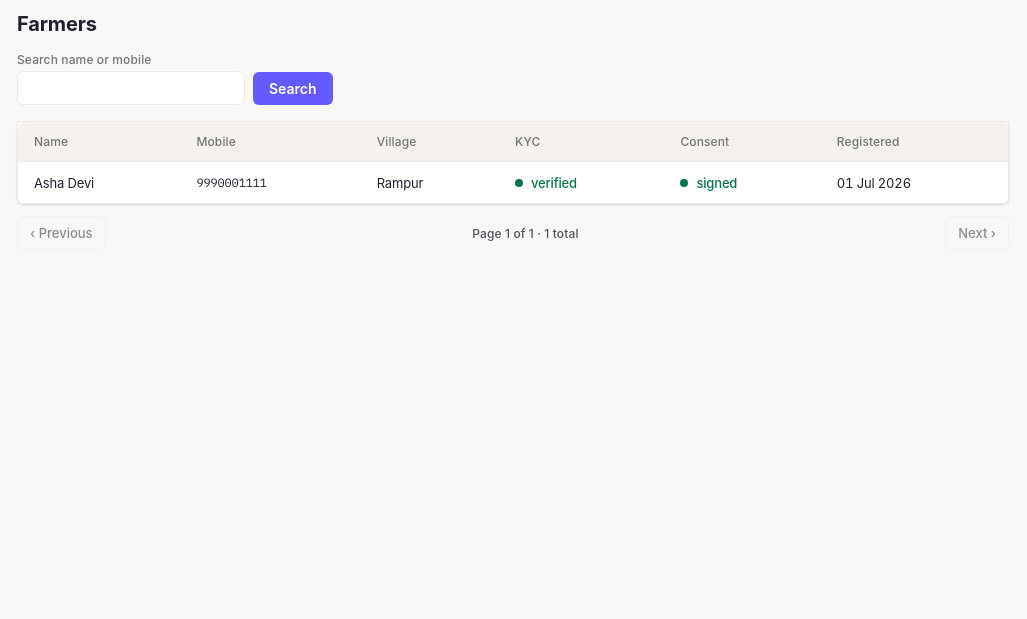
Test case: Farmers page › opens a detail panel showing masked PII only
Click the text "Asha Devi": (64, 182) [18,162,180,204]
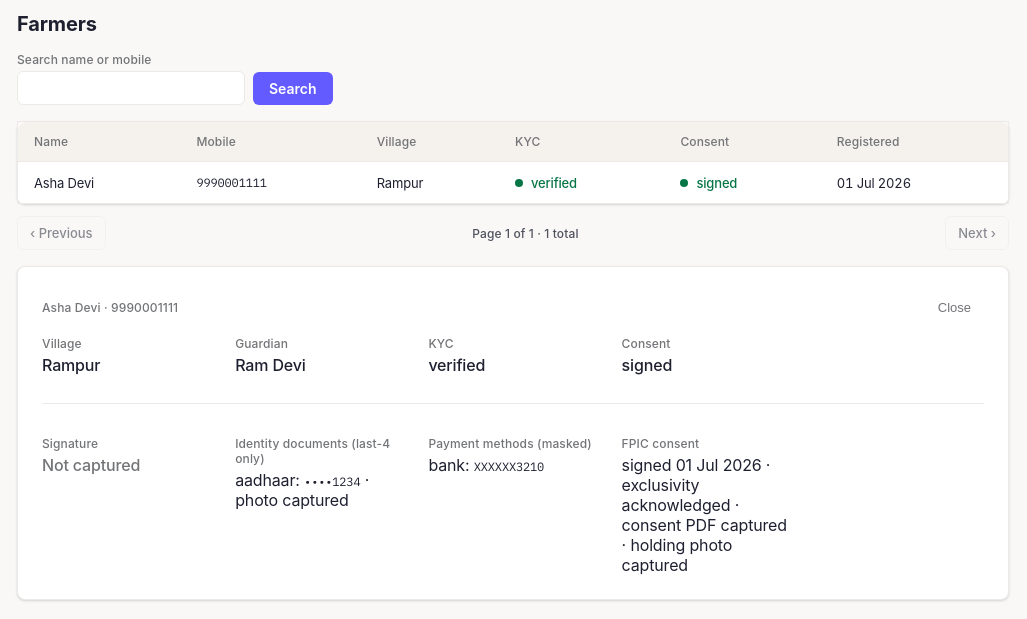
Expected: the text "••••1234" is shown, [304,474,360,489]
Expected: the text "XXXXXX3210" is shown, [474,459,544,474]
